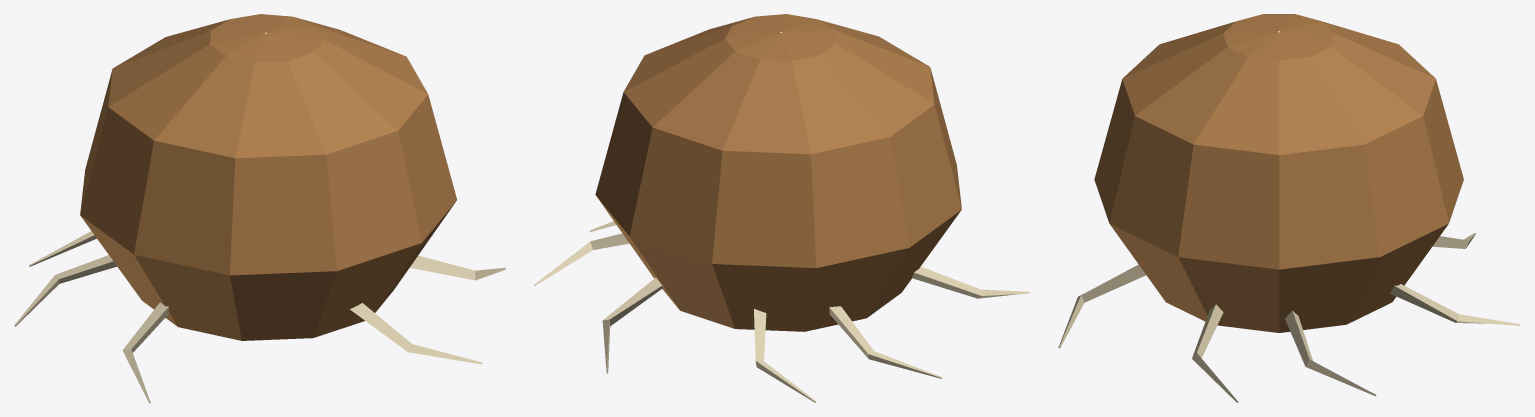
File: underground-fruiting-body.glb
The picture shows the model from 3 angles, left to right: view 1: azimuth 30°, elevation 25°; view 2: azimuth 150°, elevation 25°; view 3: azimuth 270°, elevation 25°; orthographic projection. The views are drawn at different scales.
Parts seen in each view (by area): view 1: fungus_underground-fruiting-body_LOD0; view 2: fungus_underground-fruiting-body_LOD0; view 3: fungus_underground-fruiting-body_LOD0.
Part boxes in pixels (x1,y1,x2,y2): fungus_underground-fruiting-body_LOD0: (14,14,505,402); fungus_underground-fruiting-body_LOD0: (534,14,1029,402); fungus_underground-fruiting-body_LOD0: (1058,14,1520,402).
Size of the model in its own units: 0.8502 by 0.53 by 0.8172.
